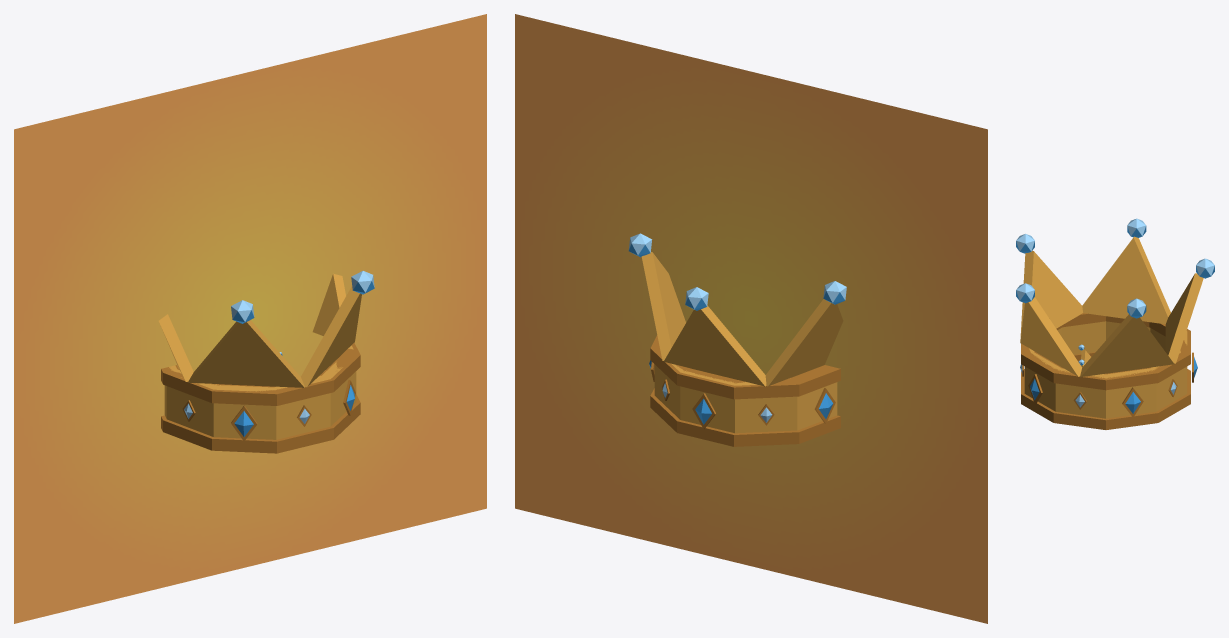
The model's file is Coroa.fbx.
3 renders of one model, left to right at view 1: azimuth 30°, elevation 25°; view 2: azimuth 150°, elevation 25°; view 3: azimuth 270°, elevation 25°, orthographic. The views are drawn at different scales.
Visible parts, largest first — view 1: Coroa_Aura, Coroa; view 2: Coroa_Aura, Coroa; view 3: Coroa.
Part boxes in pixels (box(x1,y1,x2,y2)): Coroa_Aura: box(14, 14, 486, 623); Coroa: box(158, 271, 374, 453); Coroa_Aura: box(515, 14, 987, 623); Coroa: box(628, 233, 846, 446); Coroa: box(1016, 218, 1214, 429).
Size of the model in its own units: 3 by 3 by 1.3.
